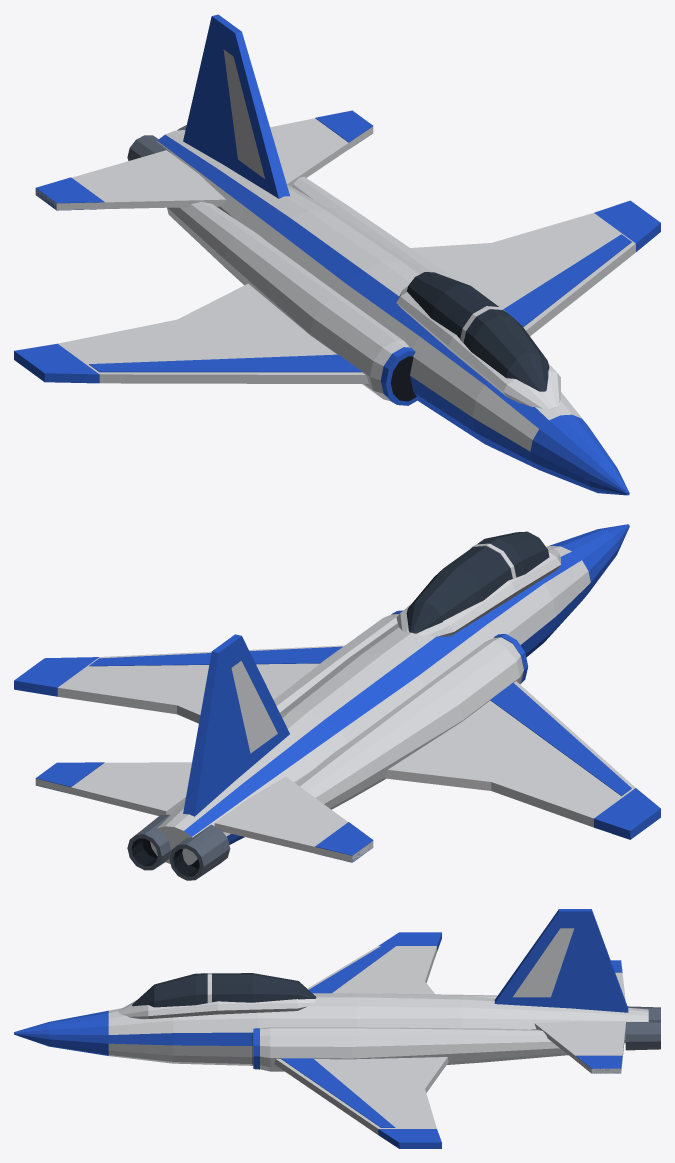
Rendered from blue_impulse.glb.
The picture shows the model from 3 angles, top to bottom: view 1: azimuth 30°, elevation 25°; view 2: azimuth 150°, elevation 25°; view 3: azimuth 270°, elevation 25°; orthographic projection. The views are drawn at different scales.
Visible parts, largest first — view 1: Kawasaki T-4 — Blue Impulse; view 2: Kawasaki T-4 — Blue Impulse; view 3: Kawasaki T-4 — Blue Impulse.
Part boxes in pixels (x1=…): Kawasaki T-4 — Blue Impulse: x1=14, y1=14, x2=660, y2=495; Kawasaki T-4 — Blue Impulse: x1=14, y1=524, x2=660, y2=880; Kawasaki T-4 — Blue Impulse: x1=14, y1=909, x2=660, y2=1148.
Size of the model in its own units: 10 by 3.37 by 13.
